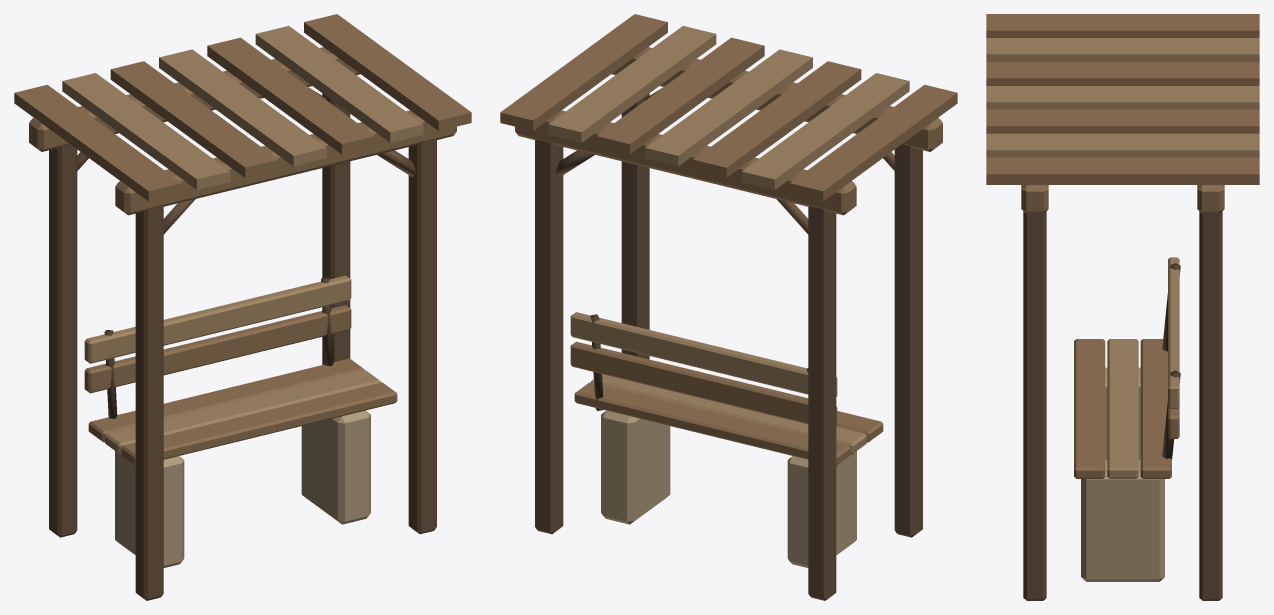
Rendered from lookout_sheltered_bench.glb.
3 renders of one model, left to right at view 1: azimuth 30°, elevation 25°; view 2: azimuth 150°, elevation 25°; view 3: azimuth 270°, elevation 25°, orthographic.
Visible parts, largest first — view 1: lookout_sheltered_bench; view 2: lookout_sheltered_bench; view 3: lookout_sheltered_bench.
Part boxes in pixels (bbox=[...]): lookout_sheltered_bench: bbox=[14, 14, 471, 600]; lookout_sheltered_bench: bbox=[500, 14, 957, 600]; lookout_sheltered_bench: bbox=[986, 14, 1259, 600].
Bounding box in the file's own units: 2 × 2.46 × 1.4.
